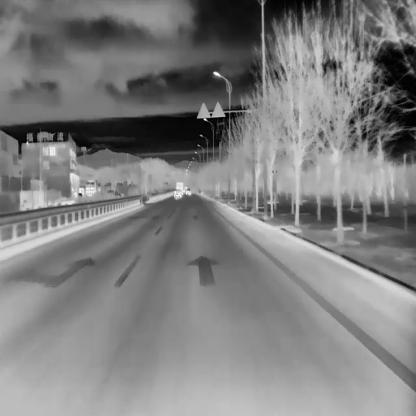car: (172, 189, 182, 199), (186, 188, 190, 195)
truck: (176, 181, 183, 196)
